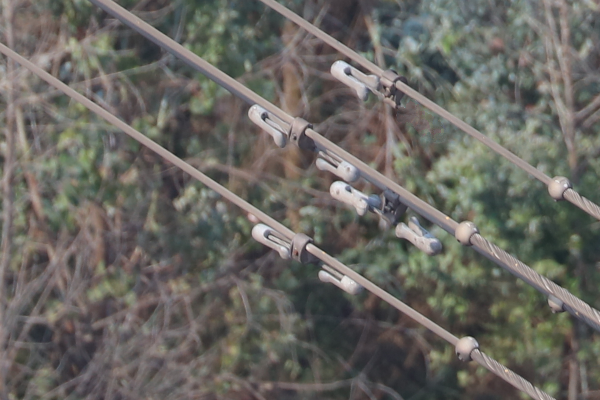damper: (242, 99, 360, 182), (324, 175, 444, 256), (246, 219, 366, 299)
damper_defect: (324, 51, 413, 117)
